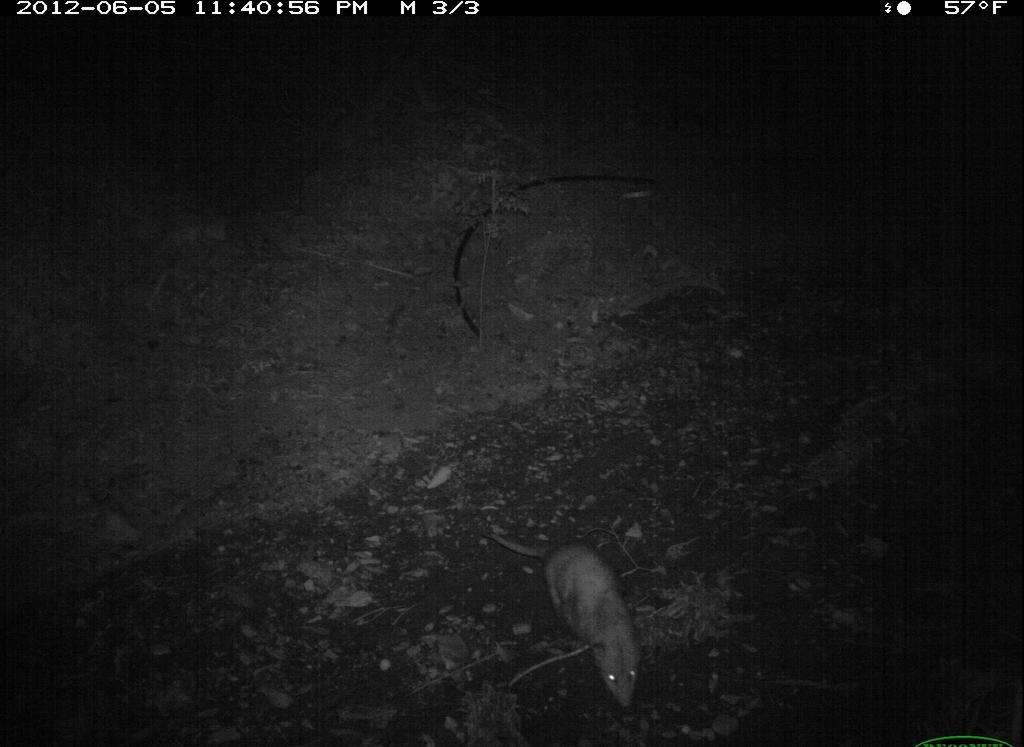opossum: (491, 515, 652, 720)
